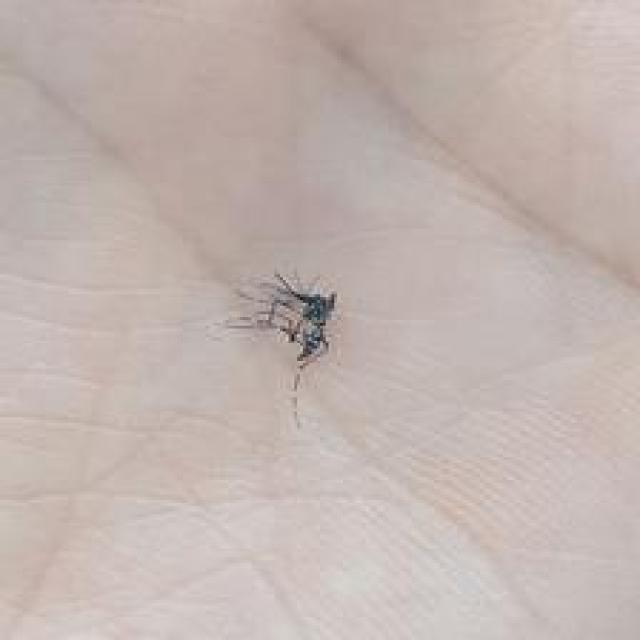Aedes albopictus: (217, 267, 340, 427)
